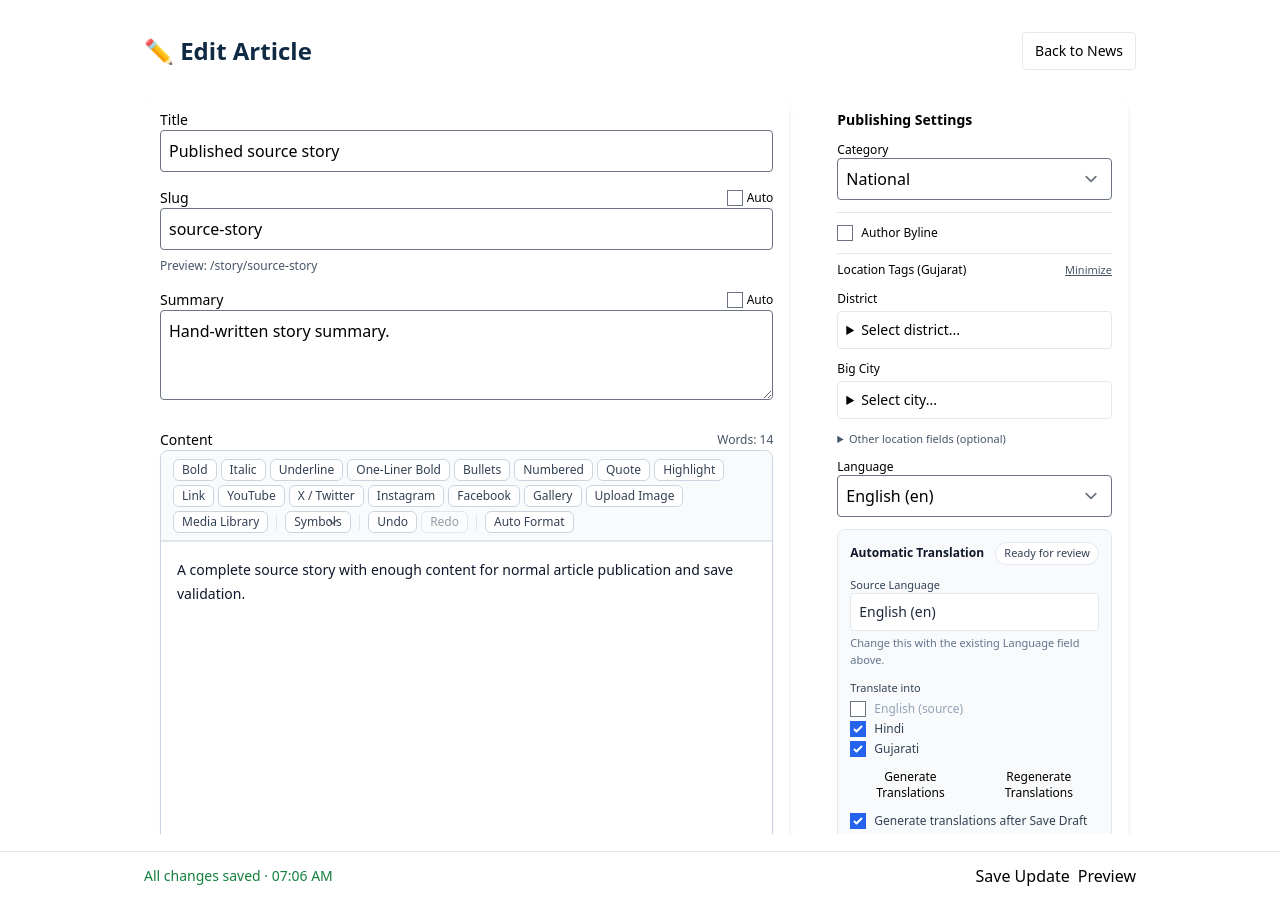
Test: Founder Edit Published - Save Update › uses later detail refreshes after Save Update while protecting dirty edits (false)
Replace the text in the field showing "Published source story" below "Title" with "First saved update" at point(467, 151), box [160,130,773,172]
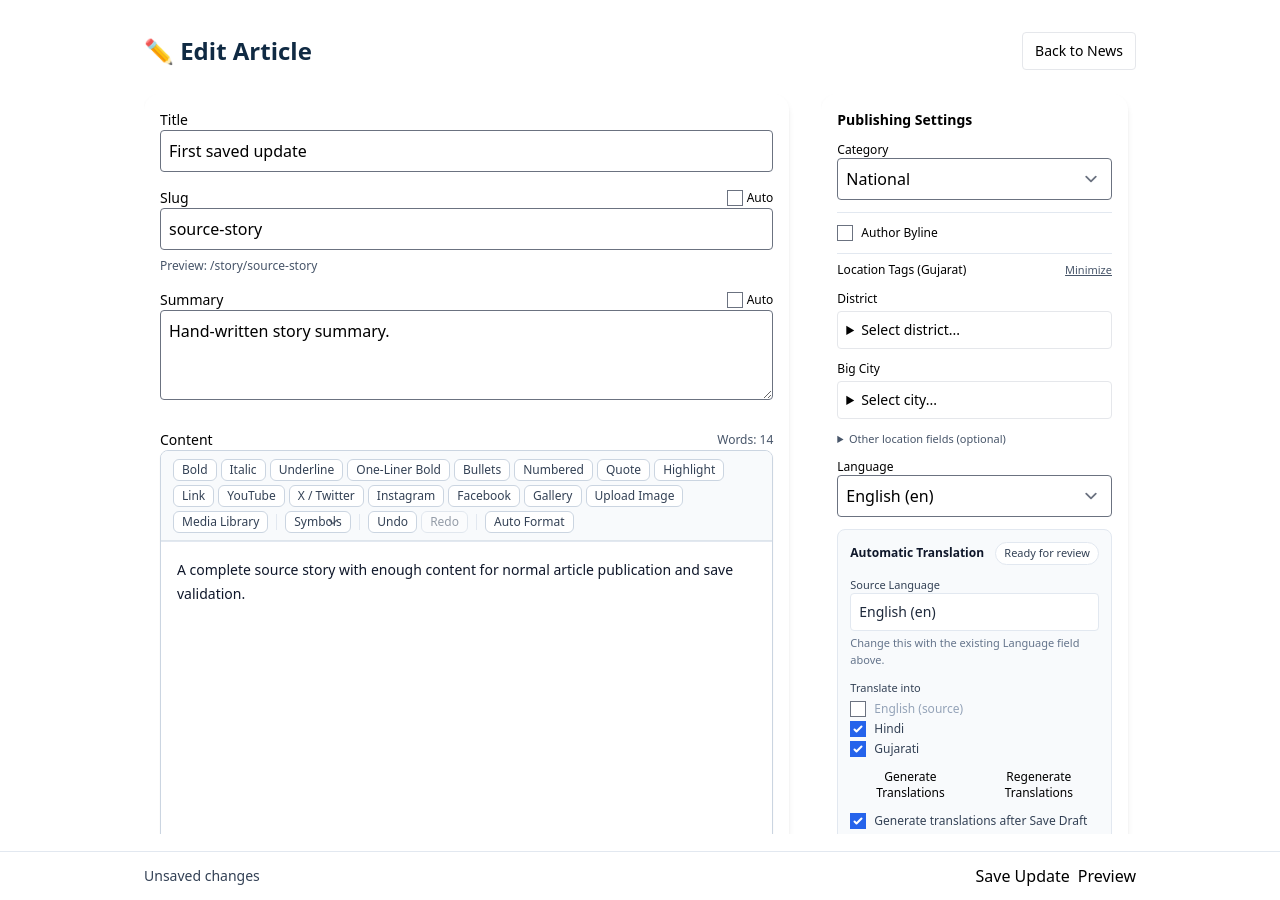
Click the button "Save Update" at point(1023, 876), box [976,864,1070,888]
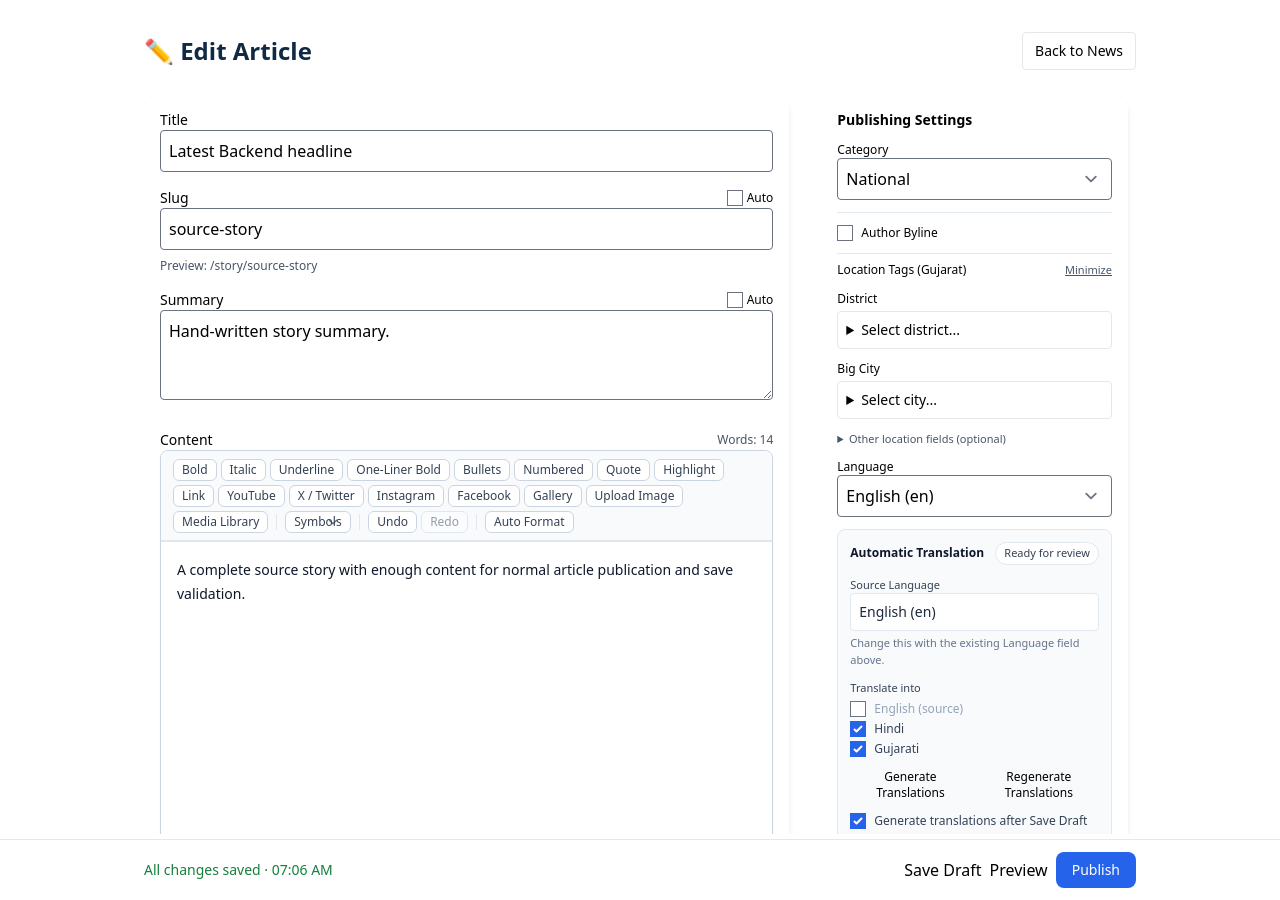
Expected: the button named "Save Update" is enabled, [904,858,982,882]
Result: the field showing "Published source story" below "Title" holds "Latest Backend headline" at [160,130,773,172]
